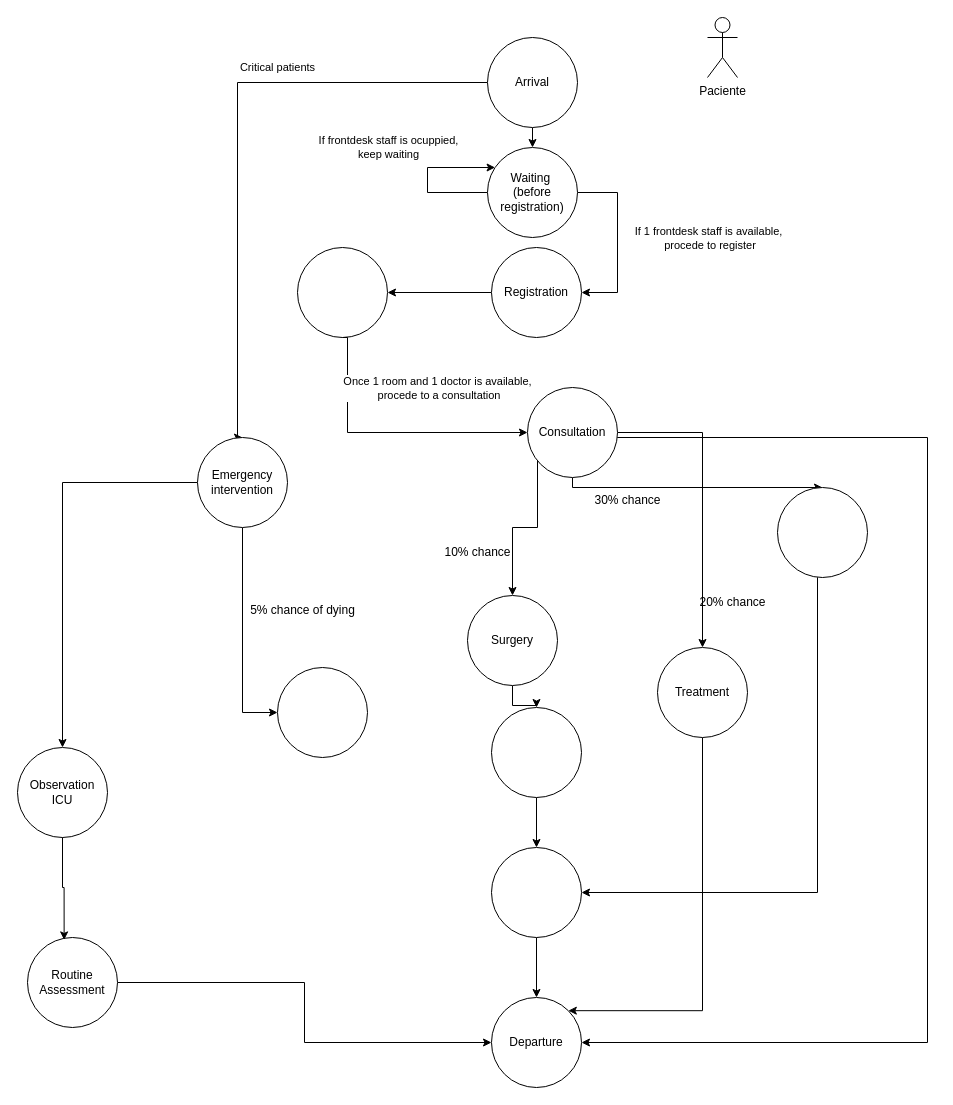
Some shapes in this 953 by 1105 pixel diagram are drawn without their labels. The shapes that lost their labels are listed below. From the top down, each one's box as (x1, y1, x2, y2) in pixels, then its label:
(296, 246, 388, 338): Waiting consultation/ Treatment
(776, 486, 868, 578): Medical exams
(276, 666, 368, 758): Death
(490, 706, 582, 798): Observation
(490, 846, 582, 938): Discharge Planning
